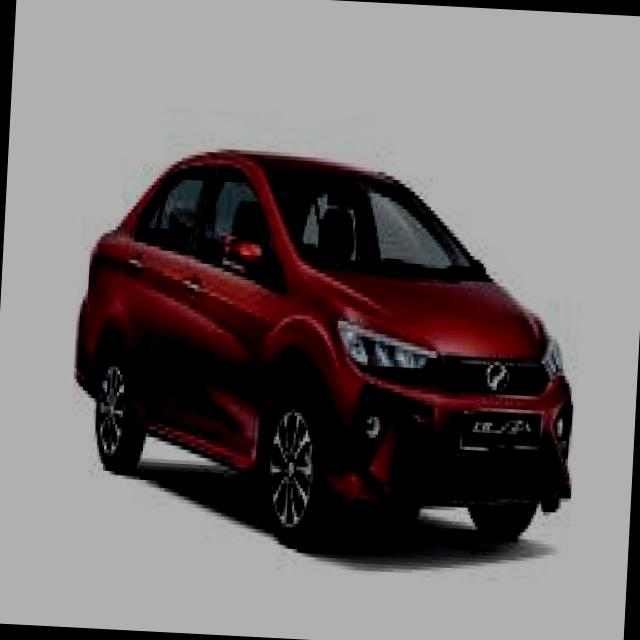PeroduaBezza: (66, 140, 590, 556)
